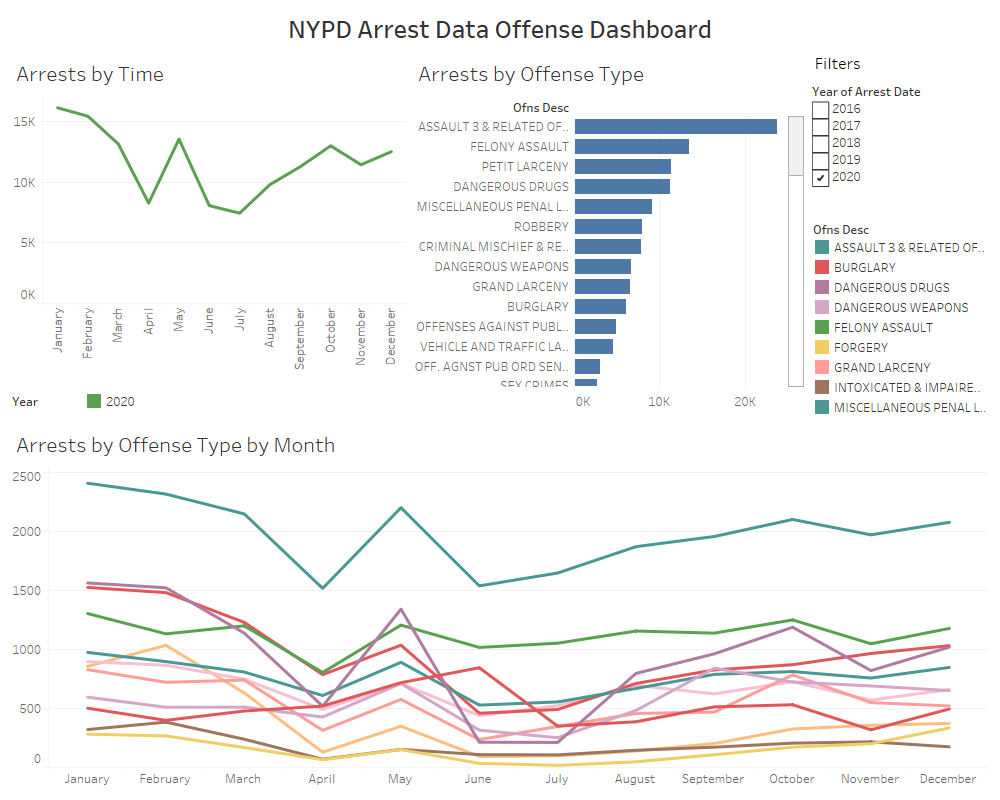

This screenshot's page, from the dashboard's own definition file:
{"tool":"tableau","page":{"name":"NYPD Arrest Data Offense Dashboard","canvas":[1000,800],"ordinal":1},"visuals":[{"type":"title","box":[8,8,984,41]},{"type":"worksheet","title":"Arrests by Time","mark":"Line","rows":["ARREST_DATE"],"cols":["ARREST_DATE"],"box":[8,49,402,338.4]},{"type":"worksheet","title":"Arrests by Offense Type","mark":"Automatic","rows":["OFNS_DESC"],"cols":["ARREST_DATE"],"box":[410,49,398,371.5]},{"type":"text","box":[808,49,184,29]},{"type":"filter","title":"Arrests by Offense Type by Month","param":"[federated.0u0g2jr0y9b0lh1fggo9v036ljvq].[yr:ARREST_DATE:ok]","box":[808,78,184,147]},{"type":"legend","title":"Arrests by Offense Type by Month","param":"[federated.0u0g2jr0y9b0lh1fggo9v036ljvq].[none:OFNS_DESC:nk]","box":[808,225,184,195.5]},{"type":"legend","title":"Arrests by Time","param":"[federated.0u0g2jr0y9b0lh1fggo9v036ljvq].[yr:ARREST_DATE:ok]","box":[8,387.4,402,33]},{"type":"worksheet","title":"Arrests by Offense Type by Month","mark":"Automatic","rows":["ARREST_DATE"],"cols":["ARREST_DATE"],"box":[8,420.5,984,371.5]}]}

Visuals, with their boxes in screenshot pixels (x1, y1, x2, y2), scaled from the page's 1000x800 canvas onto the 1000x800 screenshot:
title: {"x1": 8, "y1": 8, "x2": 992, "y2": 49}
"Arrests by Time" worksheet (Line marks): {"x1": 8, "y1": 49, "x2": 410, "y2": 387}
"Arrests by Offense Type" worksheet: {"x1": 410, "y1": 49, "x2": 808, "y2": 420}
text: {"x1": 808, "y1": 49, "x2": 992, "y2": 78}
"Arrests by Offense Type by Month" filter: {"x1": 808, "y1": 78, "x2": 992, "y2": 225}
"Arrests by Offense Type by Month" legend: {"x1": 808, "y1": 225, "x2": 992, "y2": 420}
"Arrests by Time" legend: {"x1": 8, "y1": 387, "x2": 410, "y2": 420}
"Arrests by Offense Type by Month" worksheet: {"x1": 8, "y1": 420, "x2": 992, "y2": 792}
